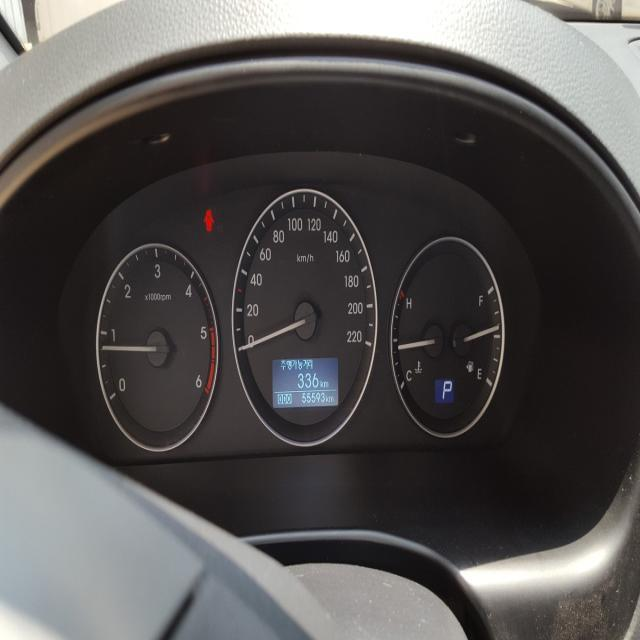Doors: (203, 207, 213, 230)
